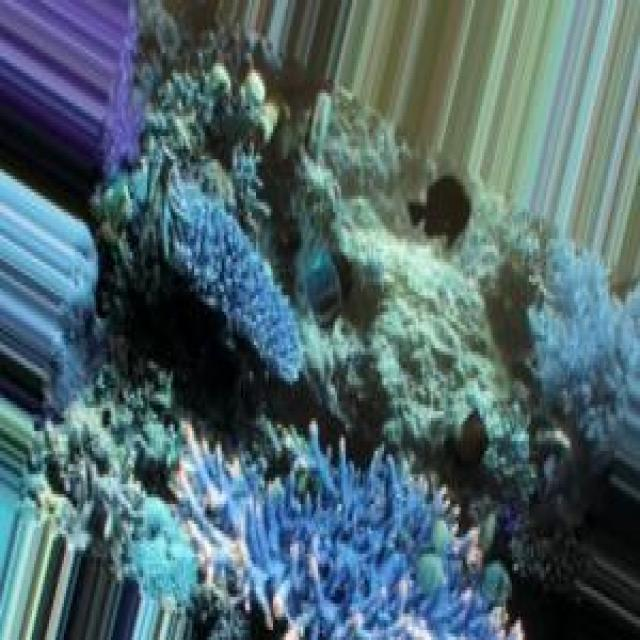Bleached: (347, 203, 513, 425)
Healthy: (99, 51, 342, 432), (180, 439, 504, 640), (148, 160, 304, 386)
